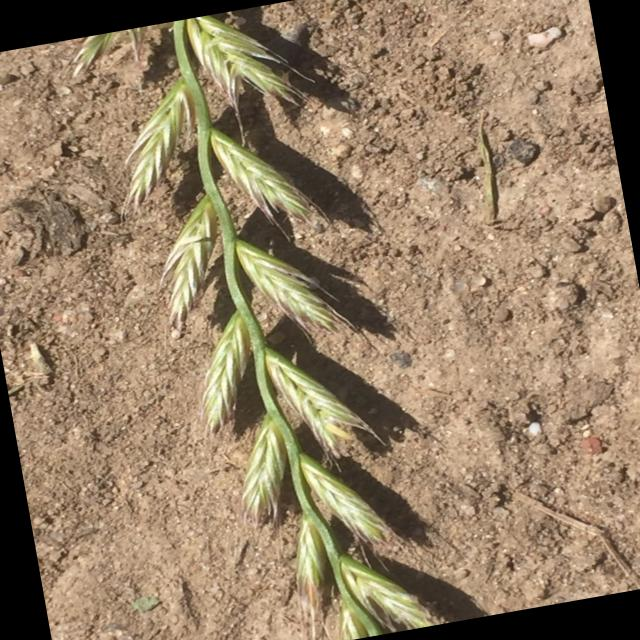Lolium: (64, 0, 435, 640)
